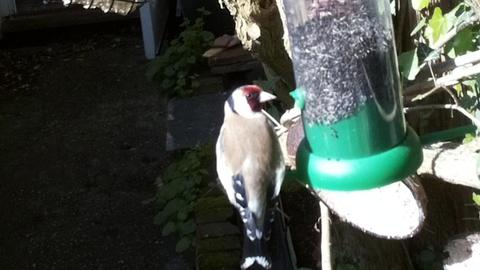goldfinch: (215, 84, 285, 270)
